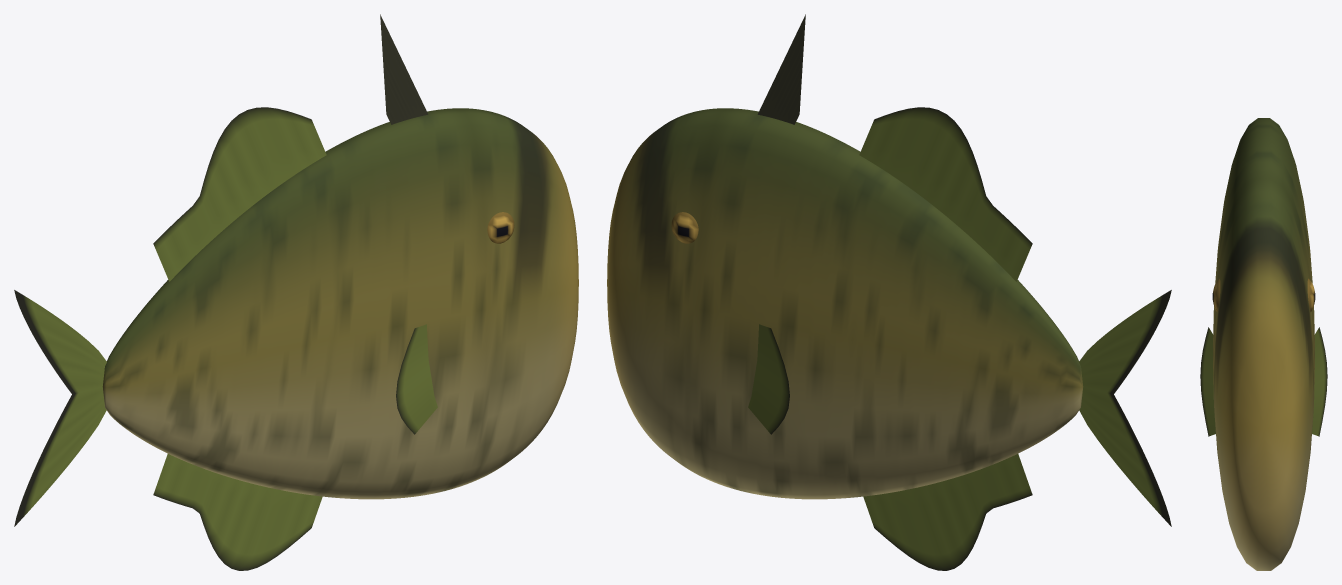
The model's file is tetik.glb.
The picture shows the model from 3 angles, left to right: view 1: azimuth 30°, elevation 25°; view 2: azimuth 150°, elevation 25°; view 3: azimuth 270°, elevation 25°; orthographic projection. The views are drawn at different scales.
Parts seen in each view (by area): view 1: tetik_govde, tetik_sirt2, tetik_anal_a, tetik_kuyruk, tetik_gogusL, tetik_sirt; view 2: tetik_govde, tetik_sirt2, tetik_anal_a, tetik_kuyruk, tetik_gogusR, tetik_sirt; view 3: tetik_govde, tetik_gogusL, tetik_gogusR, tetik_gozL, tetik_gozR.
Part boxes in pixels (box(x1,y1,x2,y2)): tetik_govde: box(102, 108, 578, 499); tetik_sirt2: box(153, 107, 326, 281); tetik_anal_a: box(153, 454, 322, 570); tetik_kuyruk: box(14, 290, 106, 526); tetik_gogusL: box(396, 324, 437, 434); tetik_sirt: box(380, 14, 428, 124); tetik_govde: box(607, 108, 1083, 499); tetik_sirt2: box(859, 107, 1032, 281); tetik_anal_a: box(863, 454, 1032, 570); tetik_kuyruk: box(1079, 290, 1171, 526); tetik_gogusR: box(748, 324, 789, 434); tetik_sirt: box(757, 14, 805, 124); tetik_govde: box(1213, 118, 1314, 570); tetik_gogusL: box(1200, 327, 1215, 436); tetik_gogusR: box(1312, 327, 1327, 436); tetik_gozL: box(1212, 278, 1220, 311); tetik_gozR: box(1307, 278, 1315, 311).
Size of the model in its own units: 0.985 by 0.8816 by 0.1879.
